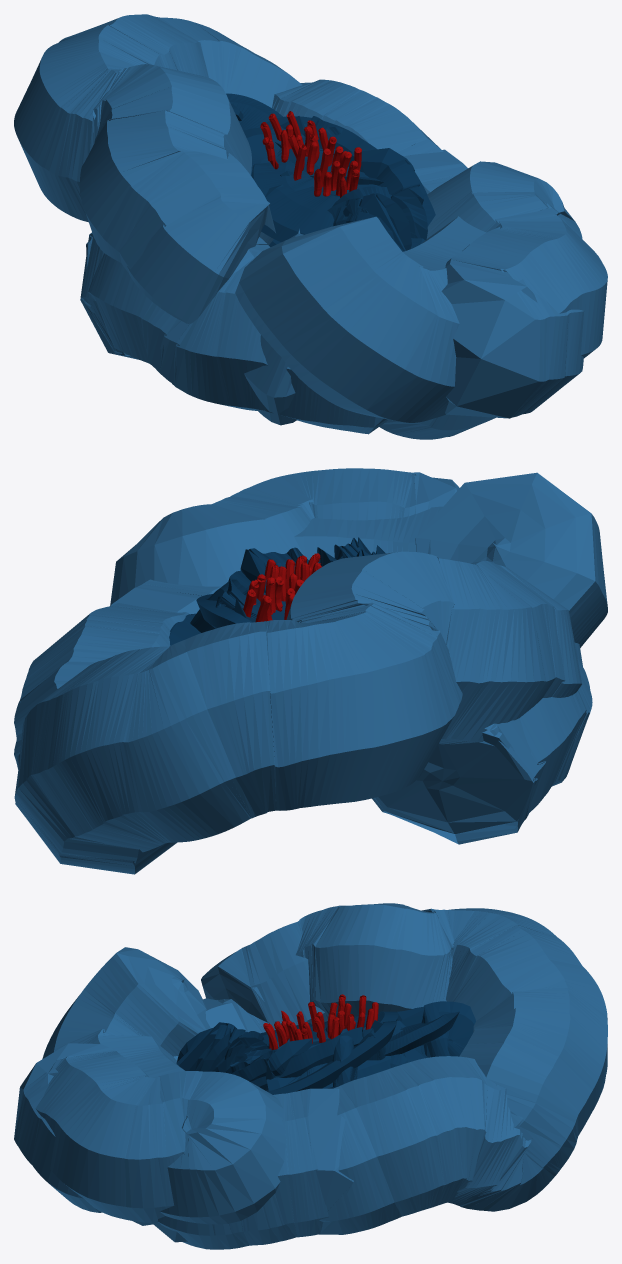
The picture shows the model from 3 angles, top to bottom: view 1: azimuth 30°, elevation 25°; view 2: azimuth 150°, elevation 25°; view 3: azimuth 270°, elevation 25°; orthographic projection. The views are drawn at different scales.
Parts seen in each view (by area): view 1: Paint; view 2: Paint; view 3: Paint.
Part boxes in pixels (x1,y1,x2,y2): Paint: [14, 14, 607, 439]; Paint: [14, 468, 607, 874]; Paint: [14, 903, 607, 1249].
Size of the model in its own units: 9.81 by 6.63 by 13.83.
